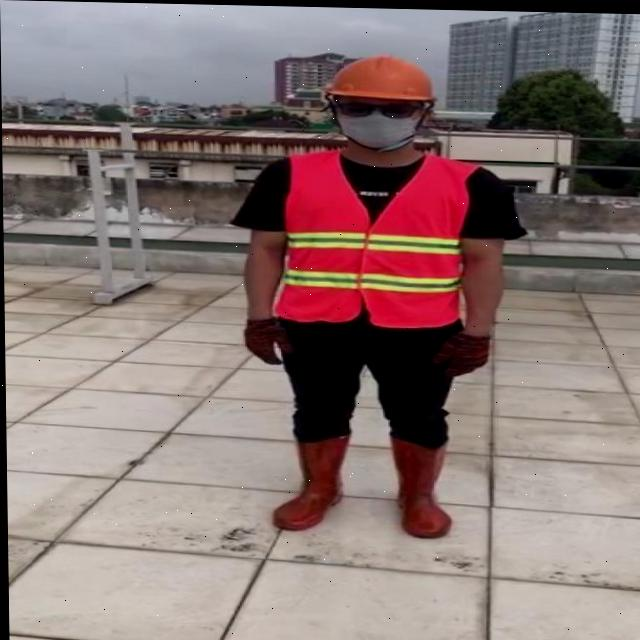Gloves: (432, 327, 491, 377), (244, 314, 295, 364)
Helmet: (323, 52, 437, 151)
Safety-Boot: (271, 428, 351, 530), (390, 431, 452, 537)
Safety-Vest: (270, 145, 483, 329)
